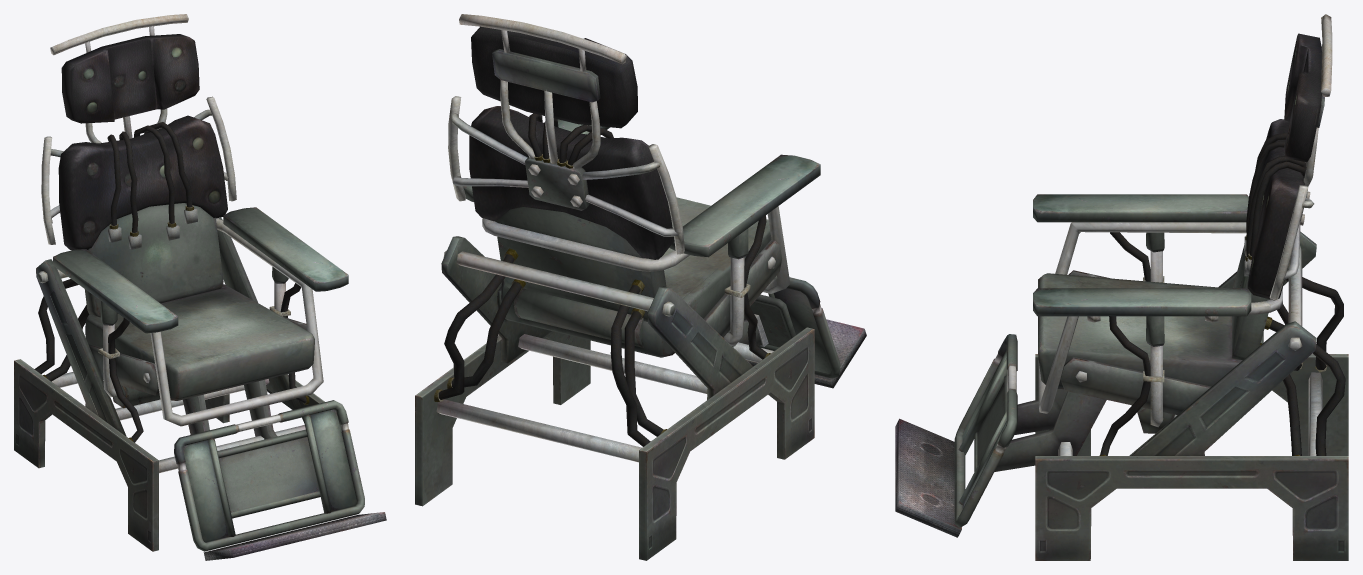
The model's file is 00_04_scan_chair.dae.
3 views of the same model, side by side, from view 1: azimuth 30°, elevation 25°; view 2: azimuth 150°, elevation 25°; view 3: azimuth 270°, elevation 25° (orthographic). The views are drawn at different scales.
Parts seen in each view (by area): view 1: scan_chair; view 2: scan_chair; view 3: scan_chair.
Part boxes in pixels (x1,y1,x2,y2): scan_chair: (14, 14, 386, 560); scan_chair: (415, 14, 866, 560); scan_chair: (895, 14, 1348, 560).
Size of the model in its own units: 0.6228 by 1.2 by 1.06.
